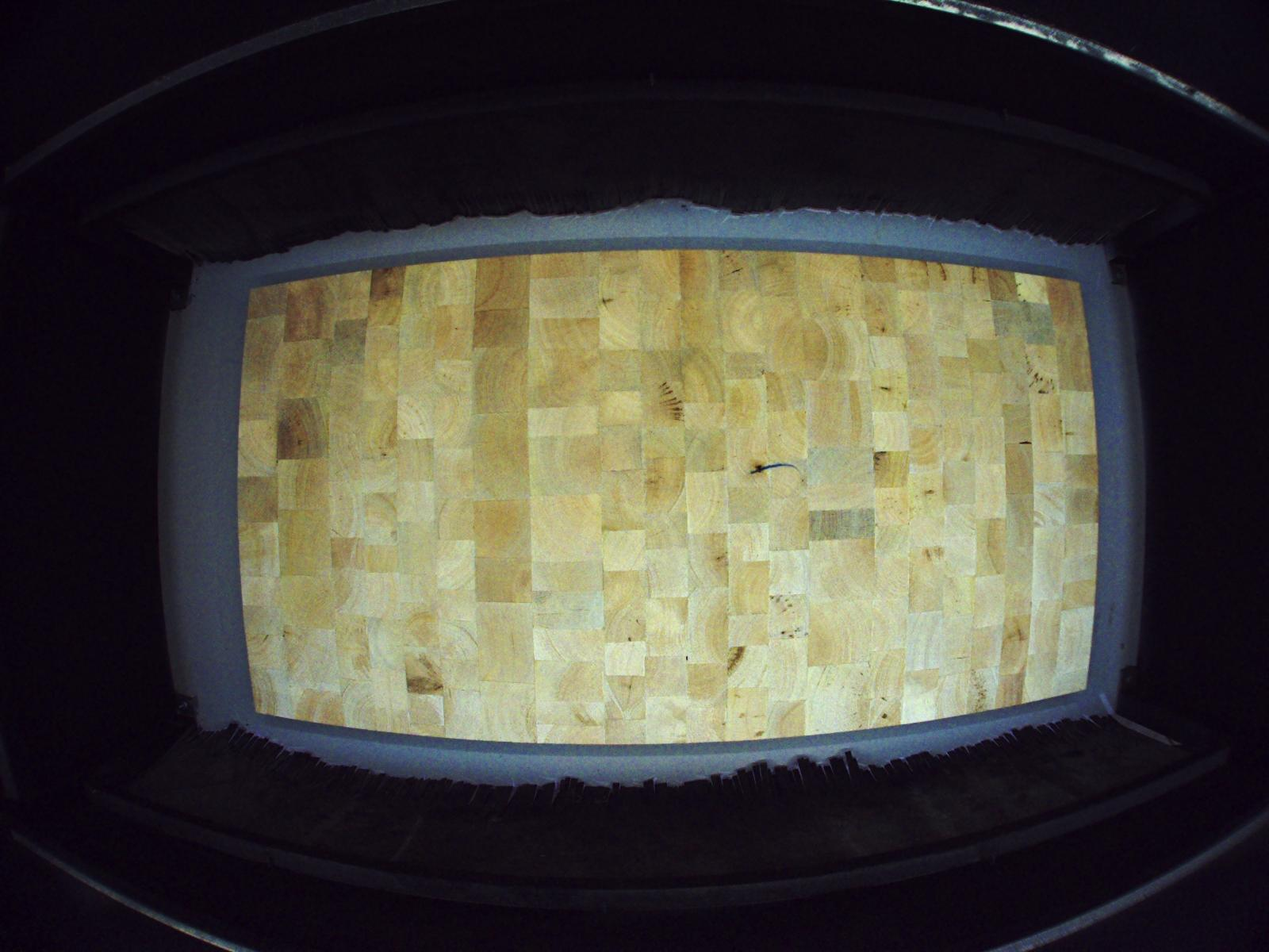nudillo: (754, 462, 765, 475)
